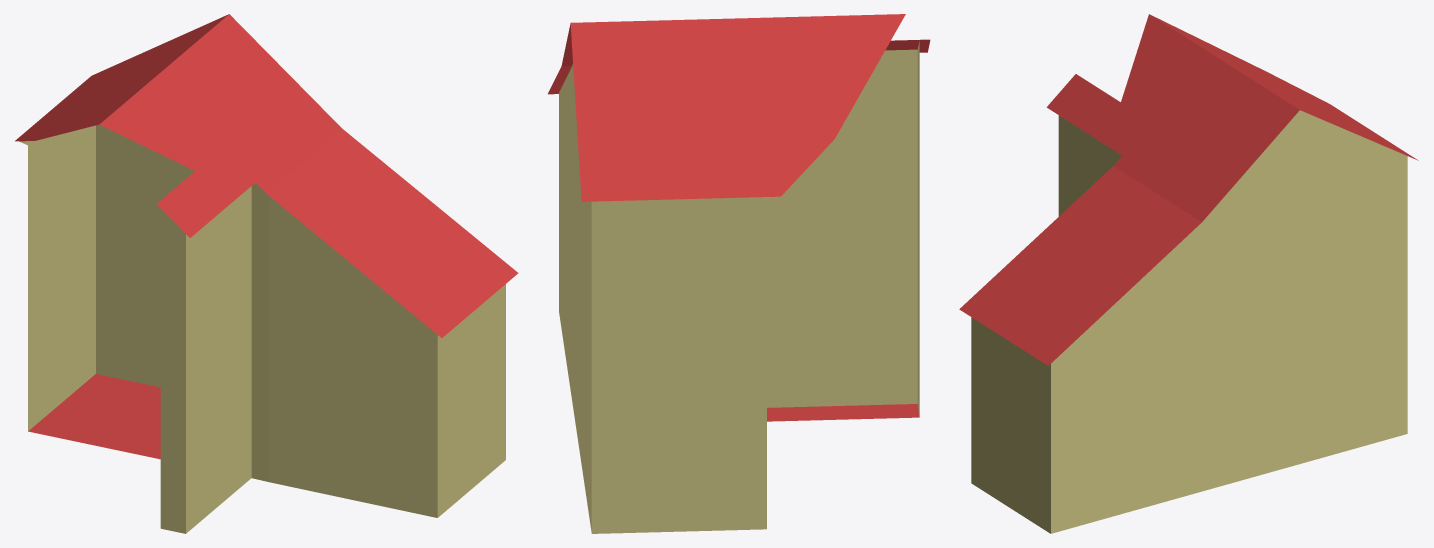
The picture shows the model from 3 angles, left to right: view 1: azimuth 30°, elevation 25°; view 2: azimuth 150°, elevation 25°; view 3: azimuth 270°, elevation 25°; orthographic projection. The views are drawn at different scales.
Size of the model in its own units: 11.23 by 13.07 by 11.23.
